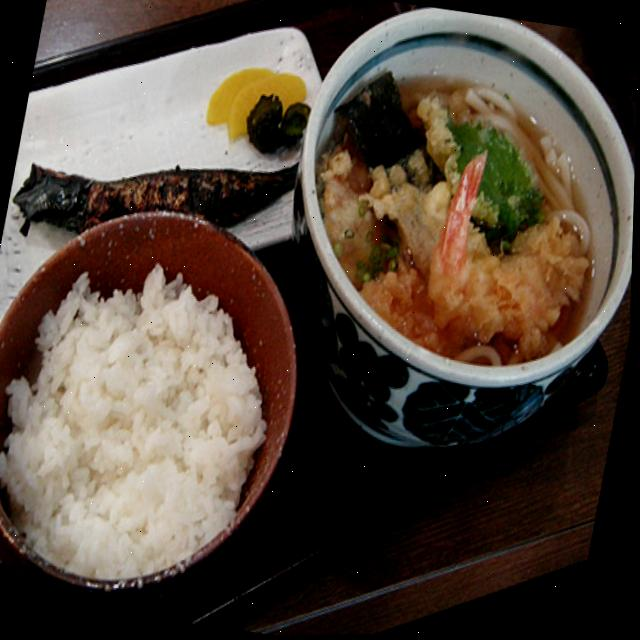面条主食: (280, 29, 629, 395)
